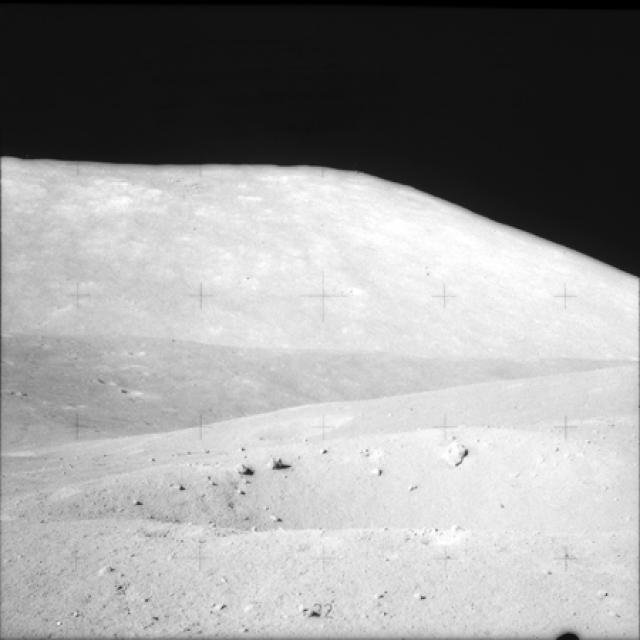crater: (97, 430, 638, 548)
rock: (439, 438, 484, 468), (294, 598, 328, 620), (266, 452, 292, 472), (232, 455, 252, 477), (367, 460, 387, 477), (173, 477, 189, 495)
